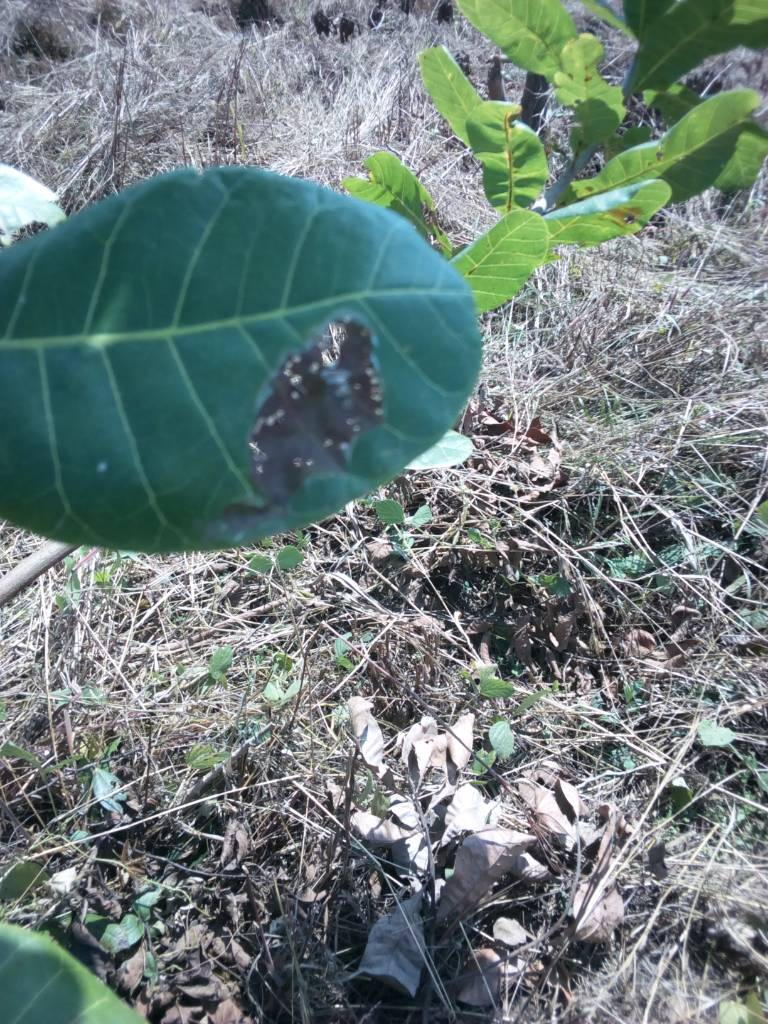Dysdercus wolkerii: (1, 153, 482, 591)
